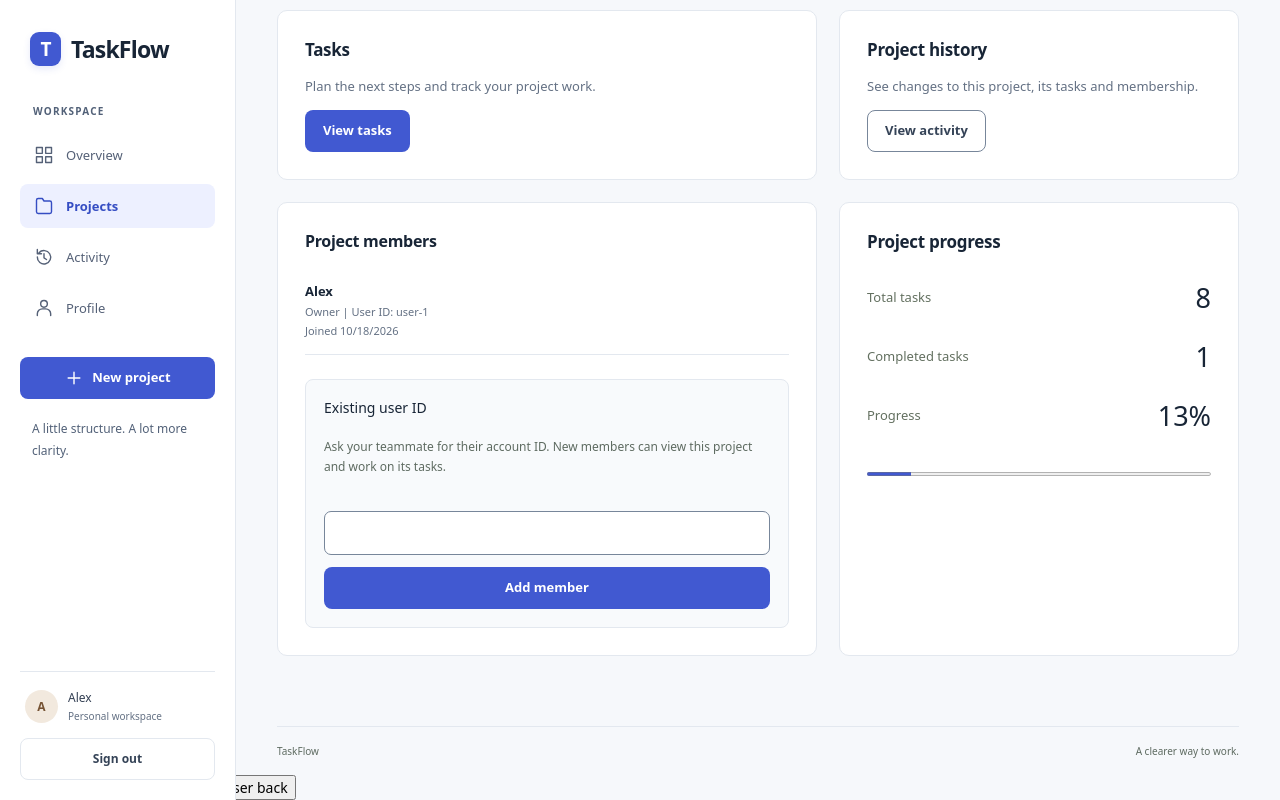
Project pages › lists owner membership and adds an existing user with a full BIGINT string
(page scrolled)
Type "9007199254741999" into the field labelled "Existing user ID". click: x=547, y=533
box: [324,511,770,555]
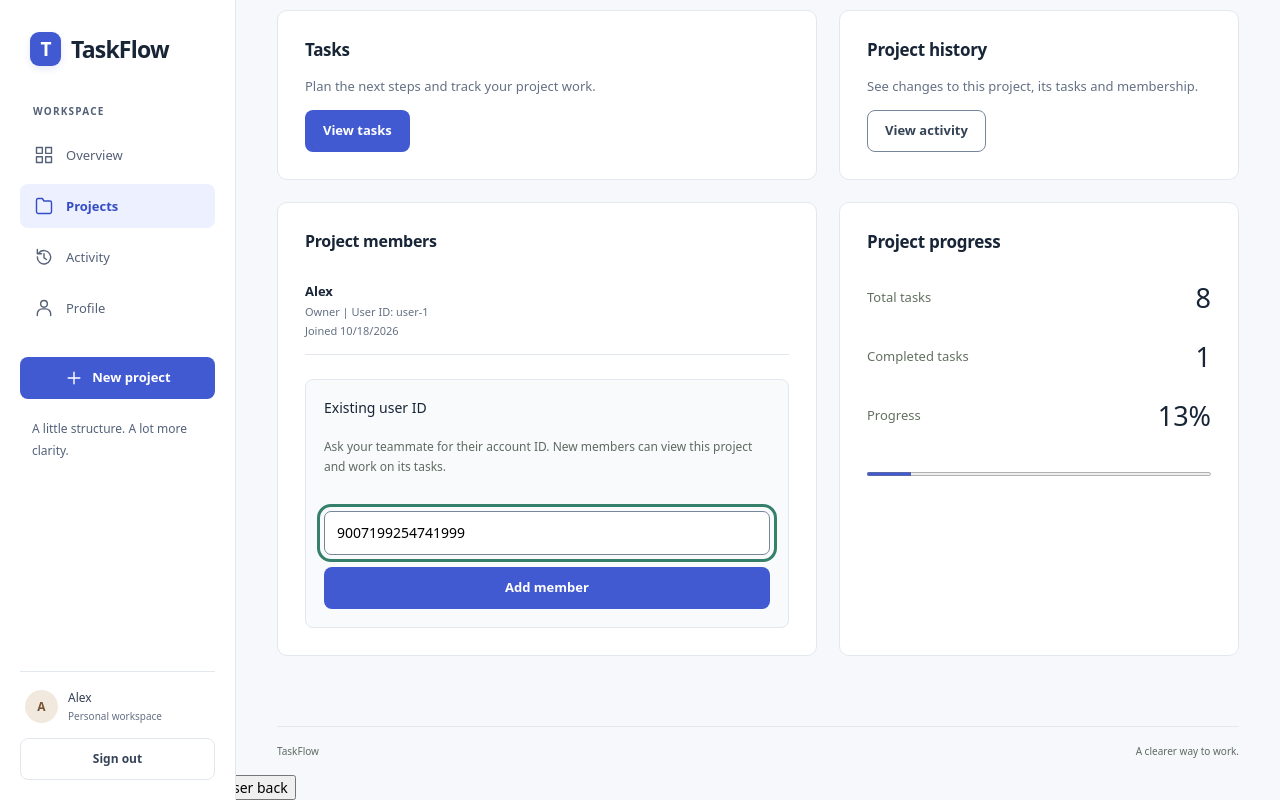
Click the button "Add member". click: x=547, y=588
box: [324,567,770,609]
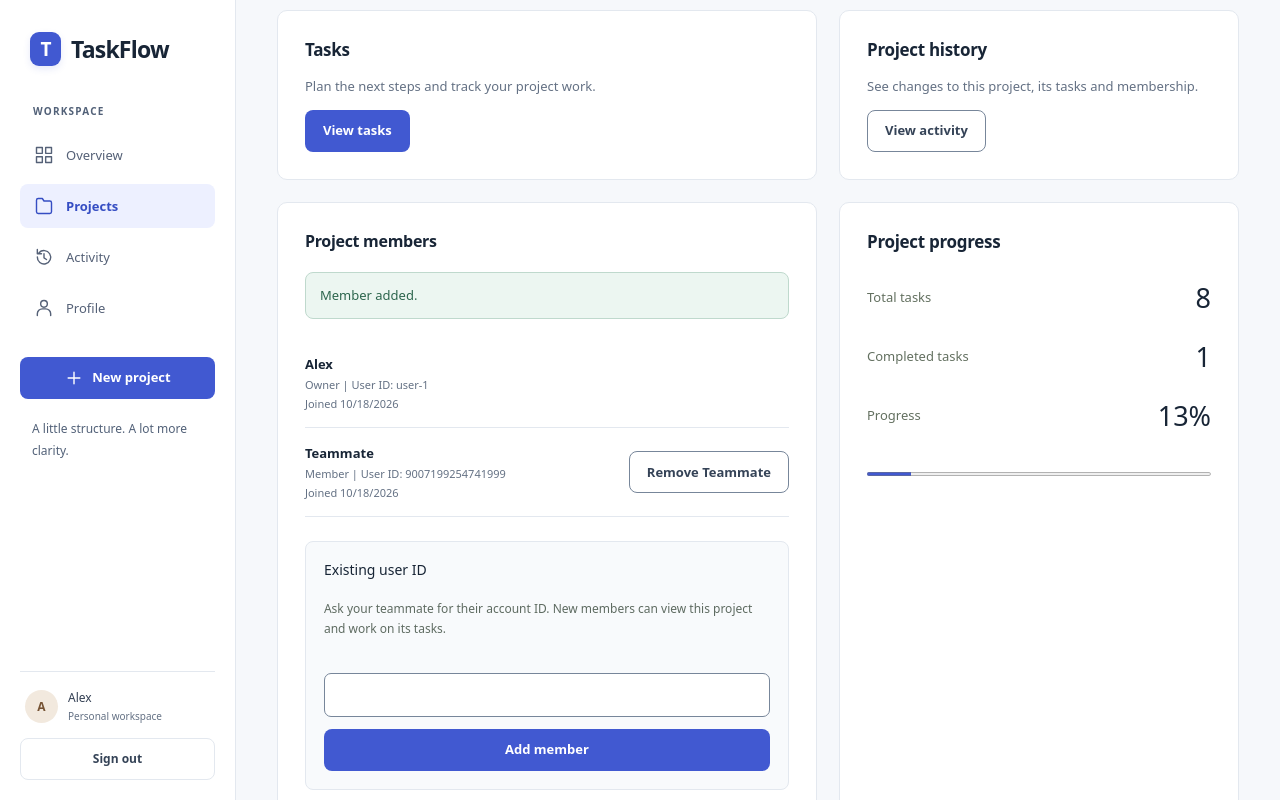
Expected: the text "Member added." is shown, [305,272,789,319]
Expected: the text "Teammate" is shown, [305,444,374,462]
